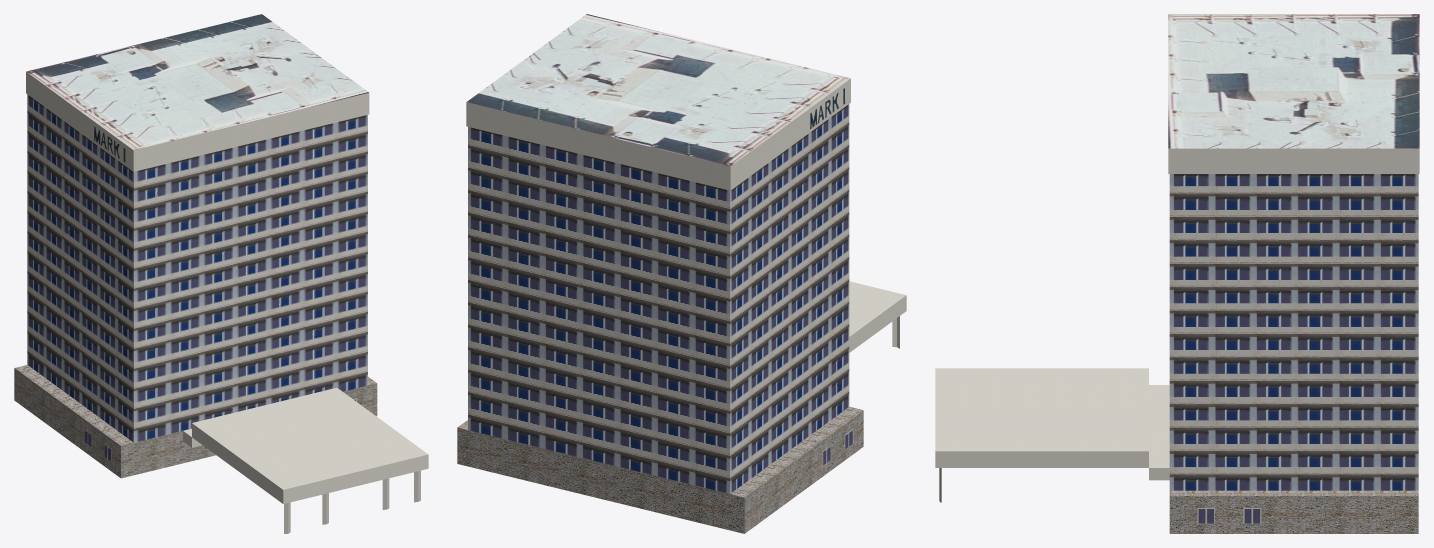
The model's file is Mark1.fbx.
The picture shows the model from 3 angles, left to right: view 1: azimuth 30°, elevation 25°; view 2: azimuth 150°, elevation 25°; view 3: azimuth 270°, elevation 25°; orthographic projection. The views are drawn at different scales.
Visible parts, largest first — view 1: Group1; view 2: Group1; view 3: Group1.
Boxes of the visible parts, x1,y1,x2,y2 form: Group1: (14, 14, 428, 503); Group1: (457, 14, 906, 533); Group1: (935, 14, 1419, 533).
Bounding box in the file's own units: 1483 × 1800 × 2076.
